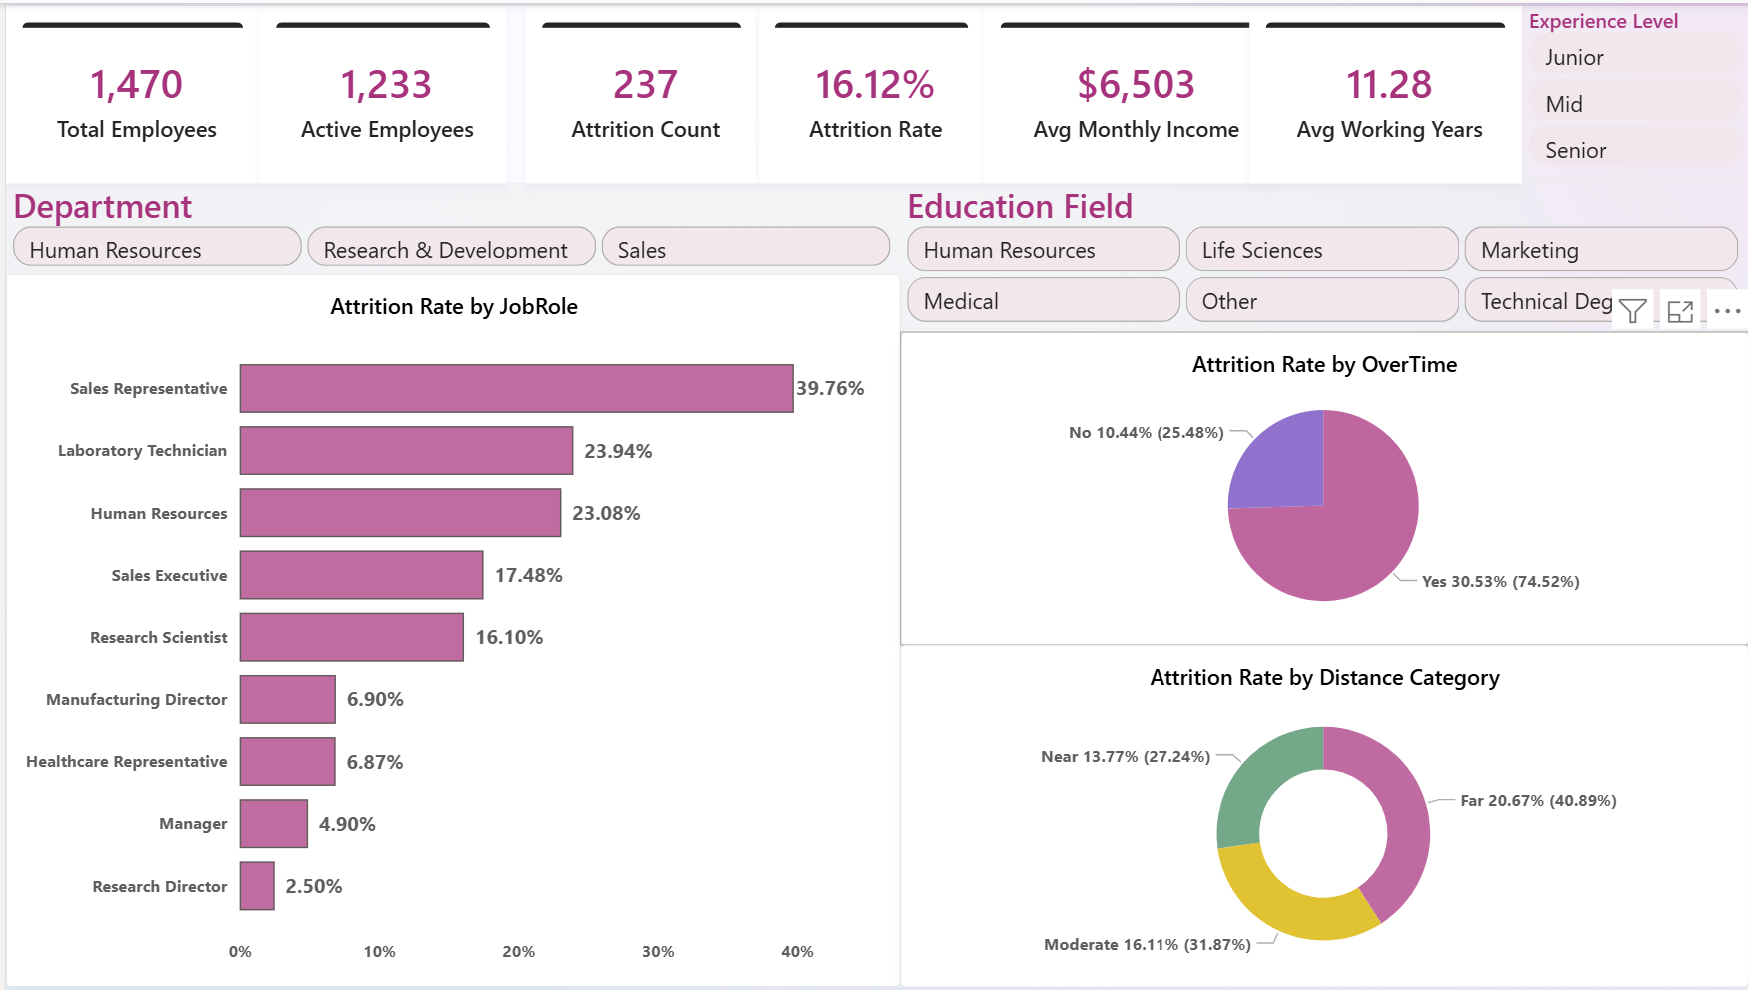

The page's visual inventory and layout, read from the dashboard file:
{"tool":"powerbi","page":{"name":"HR Summary","canvas":[1280,720],"ordinal":0},"visuals":[{"type":"cardVisual","fields":{"Data":["Measures (2).Total Employees"]},"box":[0,0,186.7,130],"z":0},{"type":"cardVisual","fields":{"Data":["Measures (2).Active Employees"]},"box":[186.7,0,181.7,130],"z":1000},{"type":"cardVisual","fields":{"Data":["Measures (2).Attrition Count"]},"box":[381.7,0,170,130],"z":2000},{"type":"cardVisual","fields":{"Data":["Measures (2).Attrition Rate"]},"box":[551.7,0,166.7,130],"z":3000},{"type":"cardVisual","fields":{"Data":["Measures (2).Avg Monthly Income"]},"box":[718.3,0,218.3,130],"z":4000},{"type":"cardVisual","fields":{"Data":["Measures (2).Avg Working Years"]},"box":[913.3,0,200,130],"z":5000},{"type":"advancedSlicerVisual","fields":{"Values":["Dim_Department.Department"]},"box":[0,130,656.7,66.7],"z":6000},{"type":"advancedSlicerVisual","title":"Education Field","fields":{"Values":["Dim_EducationField.EducationField"]},"box":[656.7,130,623.3,108.3],"z":7000},{"type":"clusteredBarChart","fields":{"Category":["Dim_JobRole.JobRole"],"Y":["Measures (2).Attrition Rate"]},"box":[0,196.7,656.7,523.3],"z":8000},{"type":"pieChart","fields":{"Category":["Fact_HR_Employee.OverTime"],"Y":["Measures (2).Attrition Rate"]},"box":[656.7,238.3,623.3,230],"z":9000},{"type":"donutChart","fields":{"Category":["Fact_HR_Employee.Distance Category"],"Y":["Measures (2).Attrition Rate"]},"box":[656.7,468.3,623.3,251.7],"z":10000},{"type":"listSlicer","fields":{"Values":["Fact_HR_Employee.Experience Level"]},"box":[1113.3,0,166.7,130],"z":11000}]}

Visuals, with their boxes in screenshot pixels (x1, y1, x2, y2), scaled from the page's 1280x720 canvas onto the 1748x990 screenshot:
cardVisual - Measures (2).Total Employees: [0, 0, 255, 179]
cardVisual - Measures (2).Active Employees: [255, 0, 503, 179]
cardVisual - Measures (2).Attrition Count: [521, 0, 753, 179]
cardVisual - Measures (2).Attrition Rate: [753, 0, 981, 179]
cardVisual - Measures (2).Avg Monthly Income: [981, 0, 1279, 179]
cardVisual - Measures (2).Avg Working Years: [1247, 0, 1520, 179]
advancedSlicerVisual - Dim_Department.Department: [0, 179, 897, 270]
"Education Field" advancedSlicerVisual: [897, 179, 1747, 328]
clusteredBarChart - Dim_JobRole.JobRole x Measures (2).Attrition Rate: [0, 270, 897, 989]
pieChart - Fact_HR_Employee.OverTime x Measures (2).Attrition Rate: [897, 328, 1747, 644]
donutChart - Fact_HR_Employee.Distance Category x Measures (2).Attrition Rate: [897, 644, 1747, 989]
listSlicer - Fact_HR_Employee.Experience Level: [1520, 0, 1747, 179]
